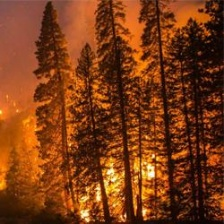fire: (59, 140, 186, 221)
